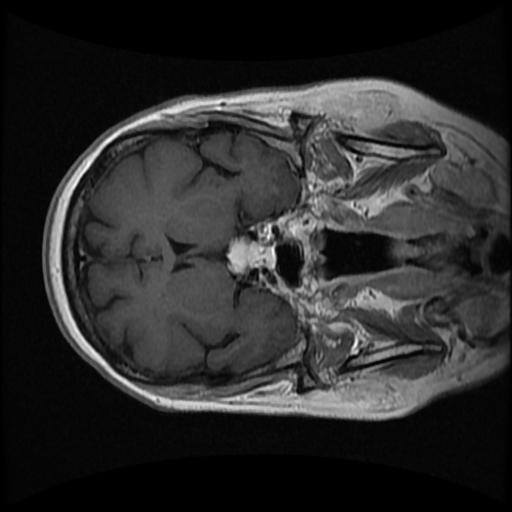meningioma: (224, 234, 277, 276)
